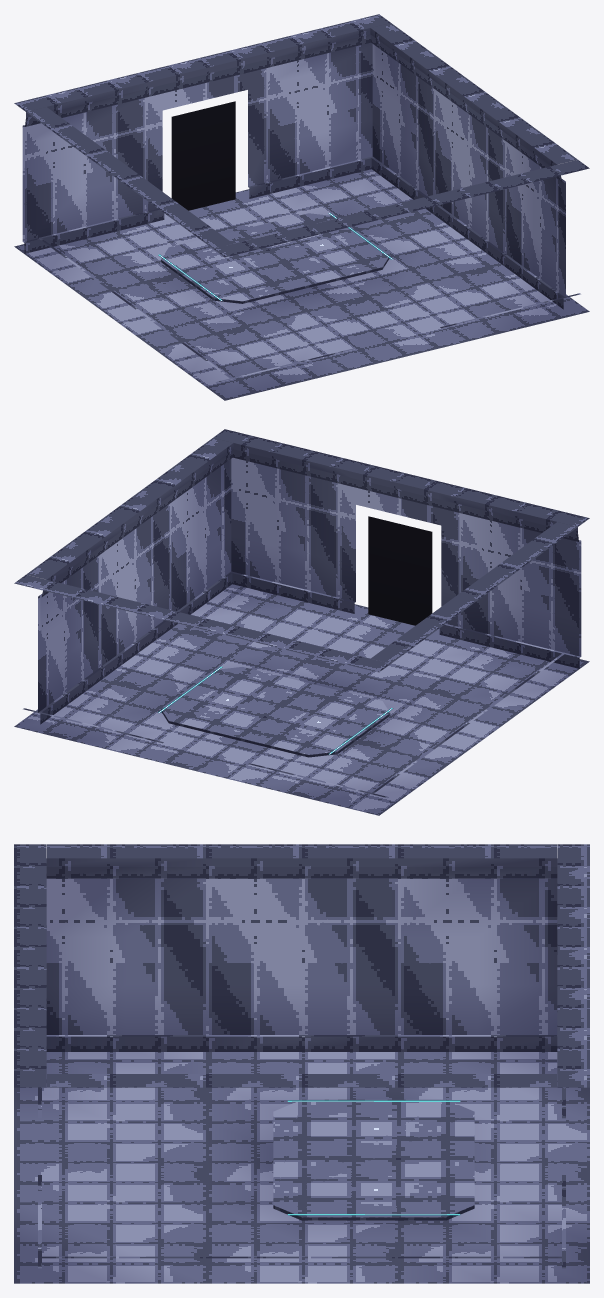
File: cyroom.club.glb
3 views of the same model, one above another, from view 1: azimuth 30°, elevation 25°; view 2: azimuth 150°, elevation 25°; view 3: azimuth 270°, elevation 25° (orthographic). The views are drawn at different scales.
Parts seen in each view (by area): view 1: kit_shell_walls, kit_shell_floor, kit_trim, kit_card_lights; view 2: kit_shell_walls, kit_shell_floor, kit_trim, kit_card_lights; view 3: kit_shell_walls, kit_shell_floor, kit_trim, kit_card_lights.
Part boxes in pixels (bbox=[...]): kit_shell_walls: bbox=[14, 14, 589, 383]; kit_shell_floor: bbox=[14, 169, 589, 400]; kit_trim: bbox=[161, 213, 390, 303]; kit_card_lights: bbox=[158, 101, 392, 300]; kit_shell_walls: bbox=[14, 429, 589, 798]; kit_shell_floor: bbox=[14, 584, 589, 815]; kit_trim: bbox=[161, 667, 390, 757]; kit_card_lights: bbox=[158, 516, 432, 754]; kit_shell_walls: bbox=[14, 844, 589, 1268]; kit_shell_floor: bbox=[14, 1052, 589, 1283]; kit_trim: bbox=[273, 1099, 474, 1220]; kit_card_lights: bbox=[287, 1100, 460, 1215].
Bounding box in the file's own units: 12 × 4.54 × 12.
Materials: 7 (7 with a texture image).
